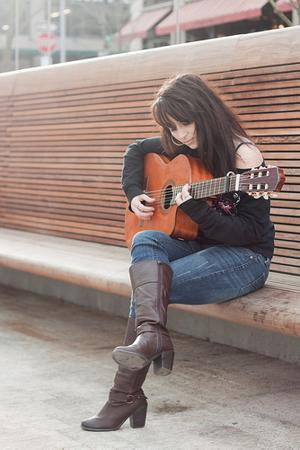person: (81, 74, 275, 432)
